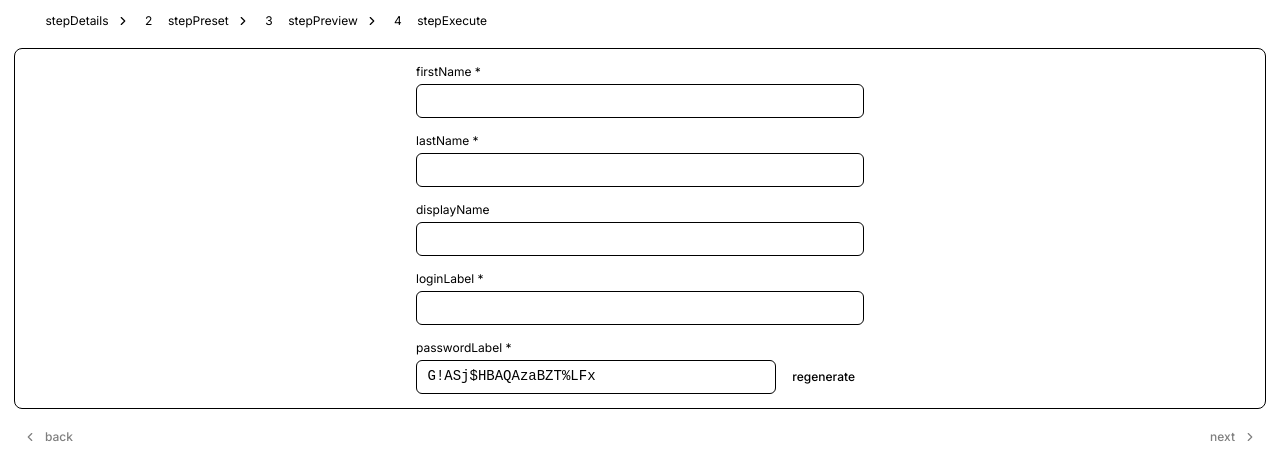
Test case: OnboardingWizard › navigates to preset step when details filled
This screenshot has width=1280, height=467.
Type "John" into the field with test id "input-firstname" at coordinates (640, 101), box left=416, top=84, right=864, bottom=118
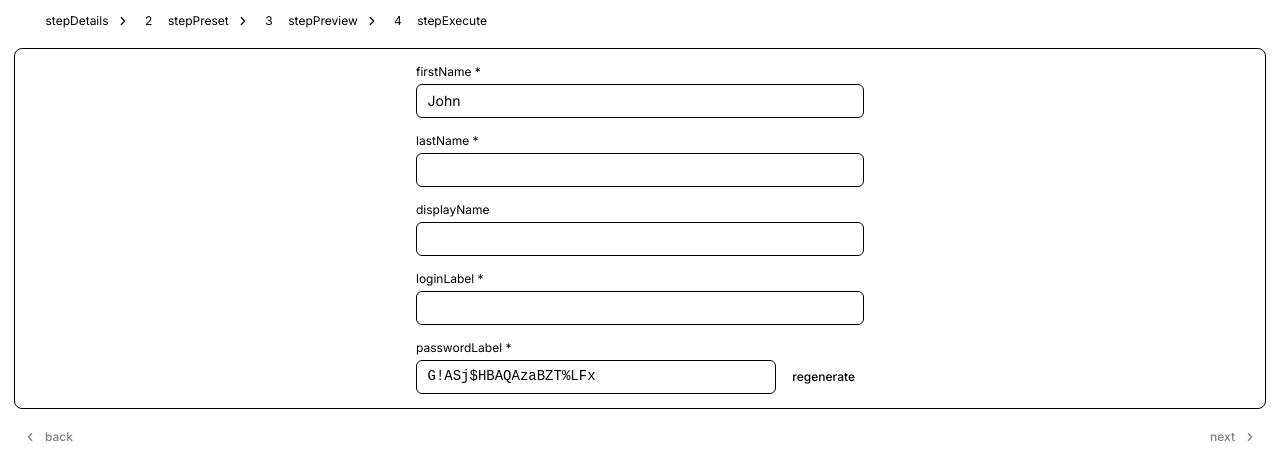
Type "Smith" into the field with test id "input-lastname" at coordinates (640, 170), box left=416, top=153, right=864, bottom=186
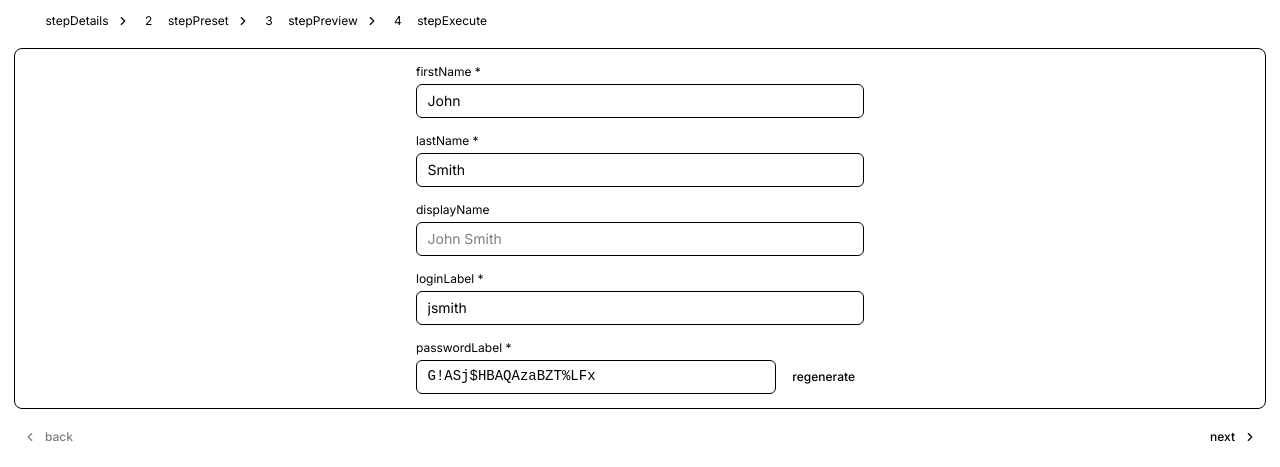
Click the button with test id "btn-next" at coordinates (1234, 436), box left=1201, top=422, right=1266, bottom=450
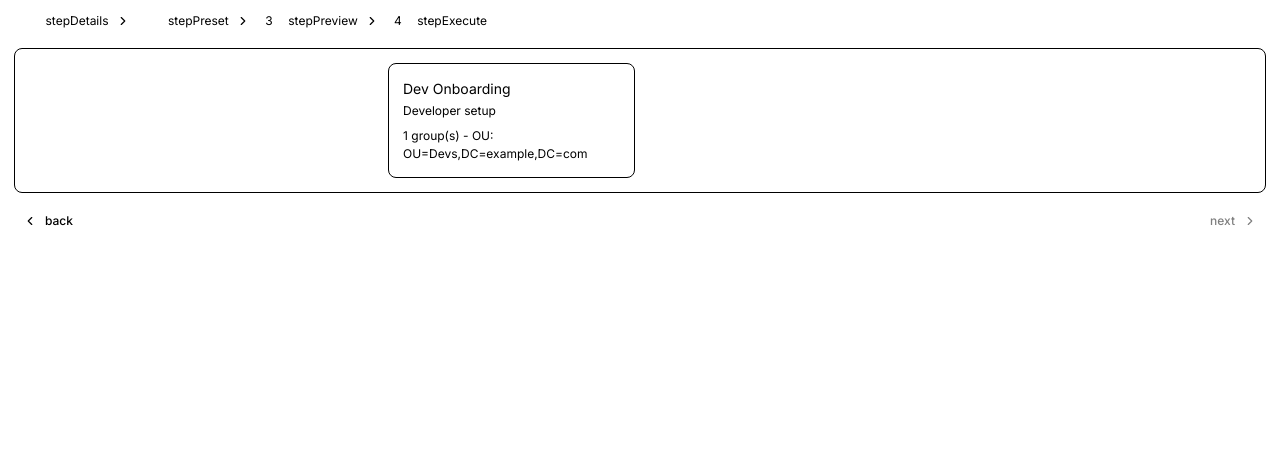
Check: the element with test id "step-preset" is shown, box left=388, top=62, right=635, bottom=178
